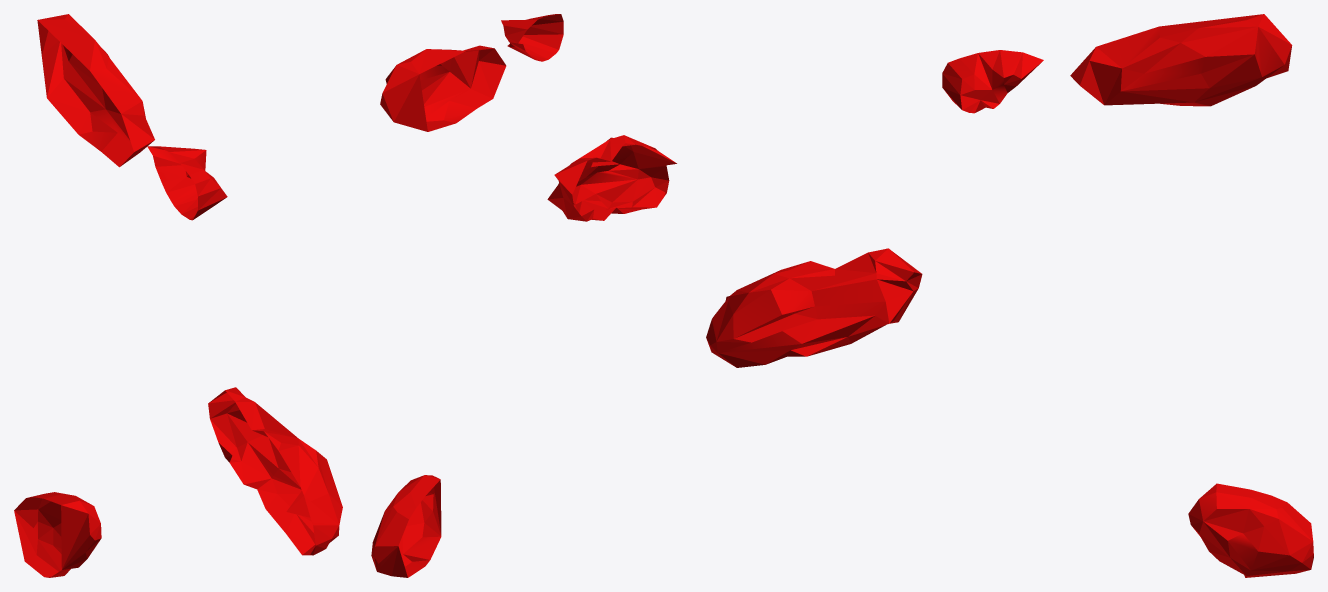
File: Alt_Light_7_EMISSIVE_small__stand_alone.fbx
3 views of the same model, side by side, from view 1: azimuth 30°, elevation 25°; view 2: azimuth 150°, elevation 25°; view 3: azimuth 270°, elevation 25° (orthographic). The views are drawn at different scales.
Visible parts, largest first — view 1: vii_e; view 2: vii_e; view 3: vii_e.
Part boxes in pixels (left/top/right/bottom): vii_e: left=14, top=14, right=342, bottom=577; vii_e: left=371, top=14, right=676, bottom=577; vii_e: left=706, top=14, right=1313, bottom=577.
Size of the model in its own units: 8.41 by 64.02 by 63.19.
